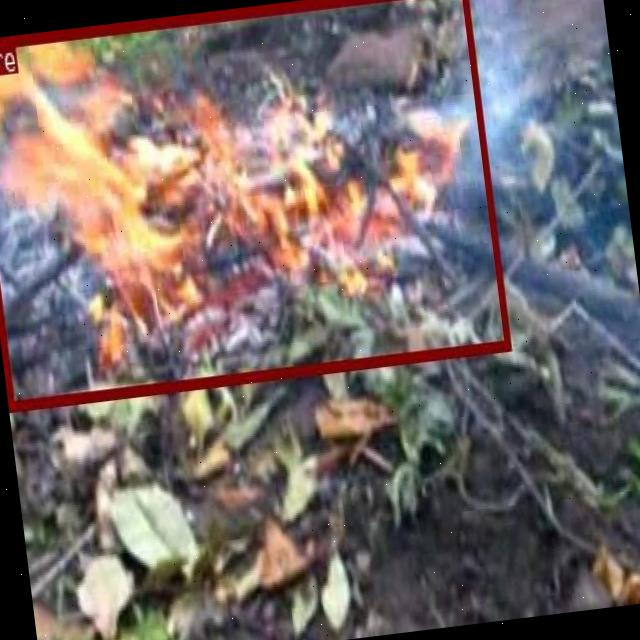fire: (0, 0, 509, 407)
